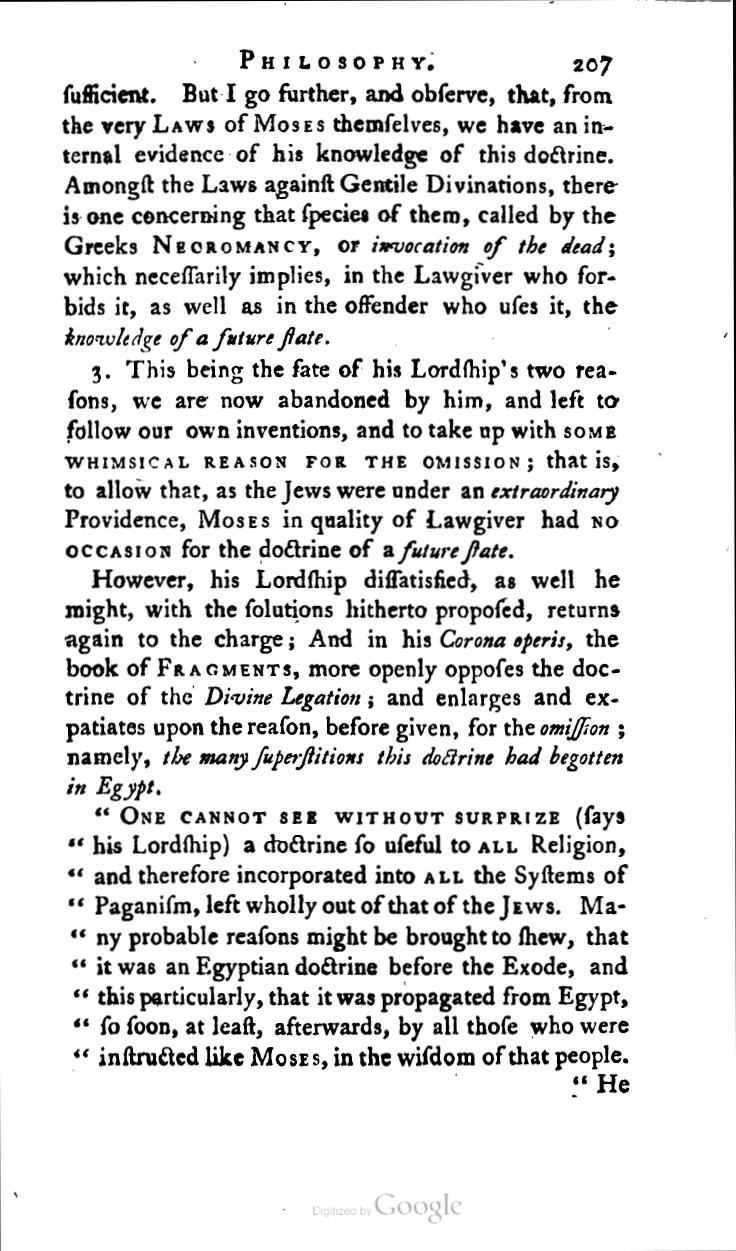bottom_p: (61, 81, 619, 353)
catchword: (572, 1072, 632, 1099)
full_p: (63, 566, 625, 802), (62, 354, 622, 565)
header: (238, 47, 436, 73)
page_num: (571, 52, 615, 77)
top_p: (66, 803, 631, 1072)
